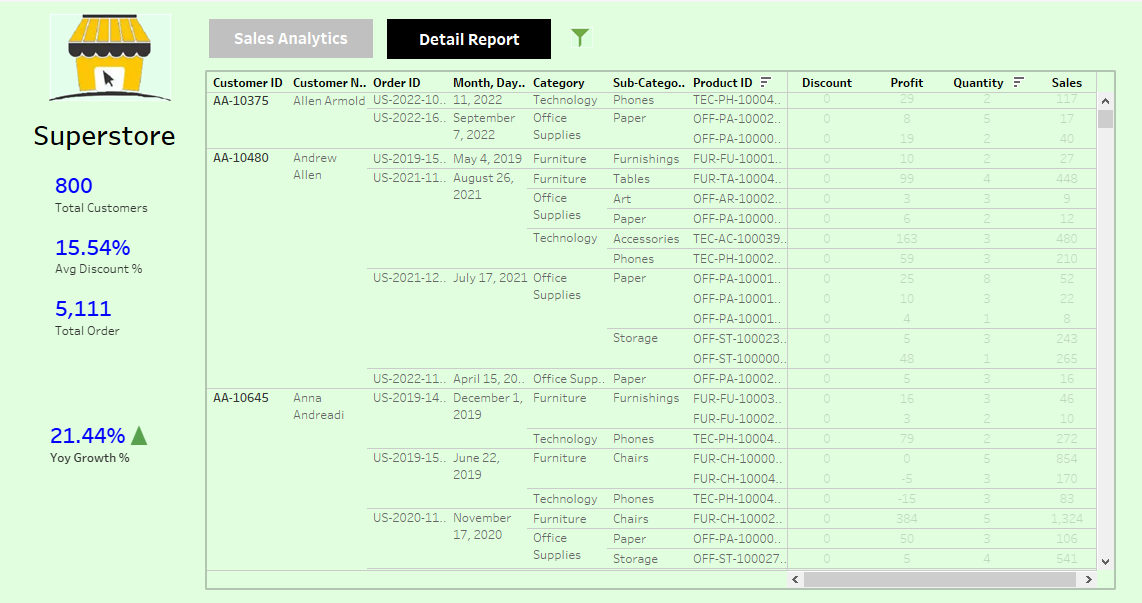

This screenshot's page, from the dashboard's own definition file:
{"tool":"tableau","page":{"name":"Dashboard 2","canvas":[1000,1000],"units":"permille","ordinal":1},"visuals":[{"type":"filter","title":"Table","param":"[federated.1suhunm1h5pino1gvicoa1rjjj32].[none:Category:nk]","box":[6.9,13.3,986.1,69.2]},{"type":"image","param":"Image/Superstore-[number redacted].png","box":[45,18.3,122.1,146.2]},{"type":"dashboard-object","box":[183.6,28.2,142,64.8]},{"type":"dashboard-object","box":[337.7,28.2,142,66.5]},{"type":"dashboard-object","box":[496.1,34.9,19.9,48.2]},{"type":"filter","title":"Table","param":"[federated.1suhunm1h5pino1gvicoa1rjjj32].[none:Region:nk]","box":[6.9,82.5,986.1,69.2]},{"type":"worksheet","title":"Table","mark":"Automatic","rows":["Customer ID","Customer Name","Order ID","Order Date","Category","Sub-Category","Product ID"],"box":[181.8,116.3,785.3,857.1]},{"type":"filter","title":"Table","param":"[federated.1suhunm1h5pino1gvicoa1rjjj32].[yr:Calculation_976999655817654272:ok]","box":[6.9,151.7,986.1,835]},{"type":"worksheet","title":"Total Avg","mark":"Automatic","box":[46.7,279.5,128.6,421.3]},{"type":"worksheet","title":"YoY Gr0wth %","mark":"Automatic","box":[42.3,694.9,129.5,244.1]}]}

Visuals, with their boxes on the dashboard's canvas, which has no fixed pixel size, in thousandths of its width and height (x1, y1, x2, y2). These are canvas units, not pixel positions in the 1142x603 screenshot, which may show the page scaled, cropped or inside an application window:
"Table" filter: x1=7 y1=13 x2=993 y2=82
image: x1=45 y1=18 x2=167 y2=164
dashboard-object: x1=184 y1=28 x2=326 y2=93
dashboard-object: x1=338 y1=28 x2=480 y2=95
dashboard-object: x1=496 y1=35 x2=516 y2=83
"Table" filter: x1=7 y1=82 x2=993 y2=152
"Table" worksheet: x1=182 y1=116 x2=967 y2=973
"Table" filter: x1=7 y1=152 x2=993 y2=987
"Total Avg" worksheet: x1=47 y1=280 x2=175 y2=701
"YoY Gr0wth %" worksheet: x1=42 y1=695 x2=172 y2=939
